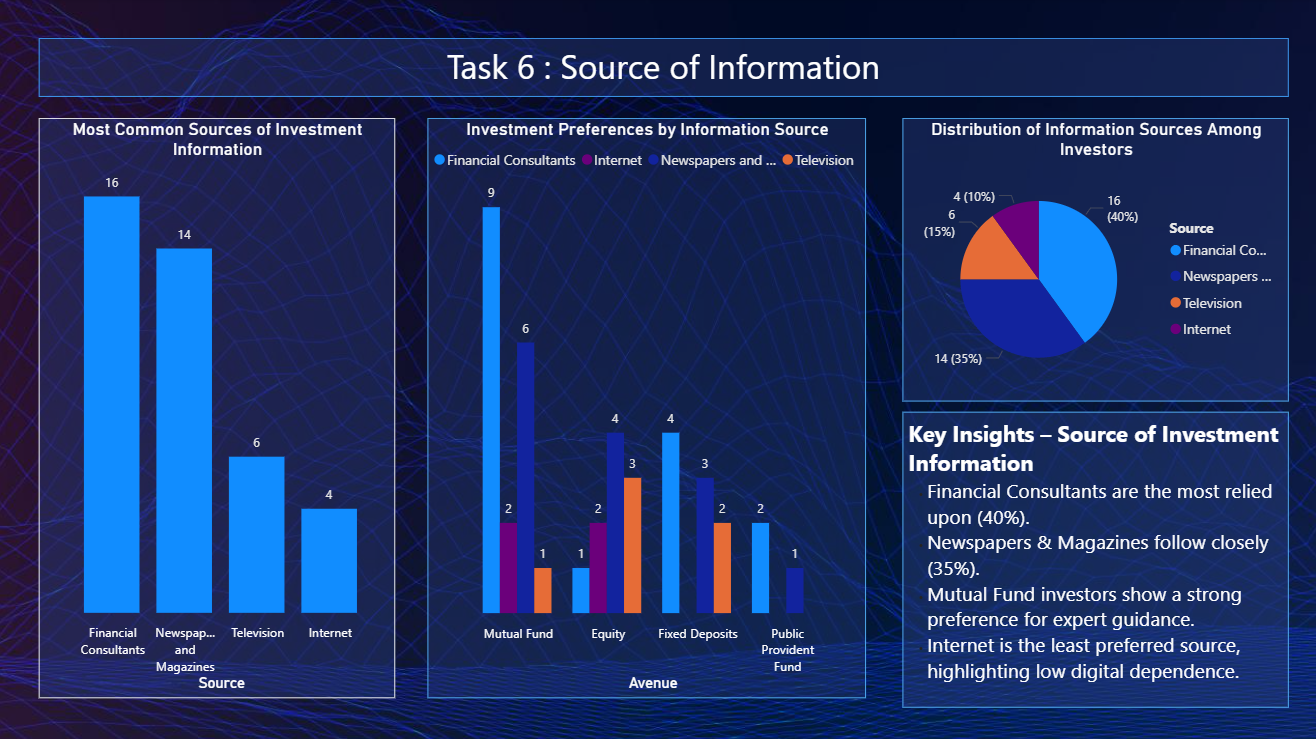

The dashboard page shown, as its layout file describes it:
{"tool":"powerbi","page":{"name":"Task 6","canvas":[1280,720],"ordinal":5},"visuals":[{"type":"textbox","box":[42.2,38.6,1206.4,56.7],"z":0},{"type":"clusteredColumnChart","title":"Most Common Sources of Investment Information","fields":{"Category":["Data_set 2.Source"],"Y":["CountNonNull(Data_set 2.Source)"]},"box":[42.2,115.8,343.8,559.8],"z":1000},{"type":"pieChart","title":"Distribution of Information Sources Among Investors","fields":{"Category":["Data_set 2.Source"],"Y":["CountNonNull(Data_set 2.Source)"]},"box":[875.9,115.8,372.8,273.9],"z":2000},{"type":"clusteredColumnChart","title":"Investment Preferences by Information Source","fields":{"Series":["Data_set 2.Source"],"Category":["Data_set 2.Avenue"],"Y":["CountNonNull(Data_set 2.Avenue)"]},"box":[417.4,115.8,423.5,559.8],"z":3000},{"type":"textbox","box":[875.9,399.3,372.8,285.9],"z":4000}]}

Visuals, with their boxes in screenshot pixels (x1, y1, x2, y2), scaled from the page's 1280x720 canvas onto the 1316x739 screenshot:
textbox: [43, 40, 1284, 98]
"Most Common Sources of Investment Information" clusteredColumnChart: [43, 119, 397, 693]
"Distribution of Information Sources Among Investors" pieChart: [901, 119, 1284, 400]
"Investment Preferences by Information Source" clusteredColumnChart: [429, 119, 865, 693]
textbox: [901, 410, 1284, 703]
